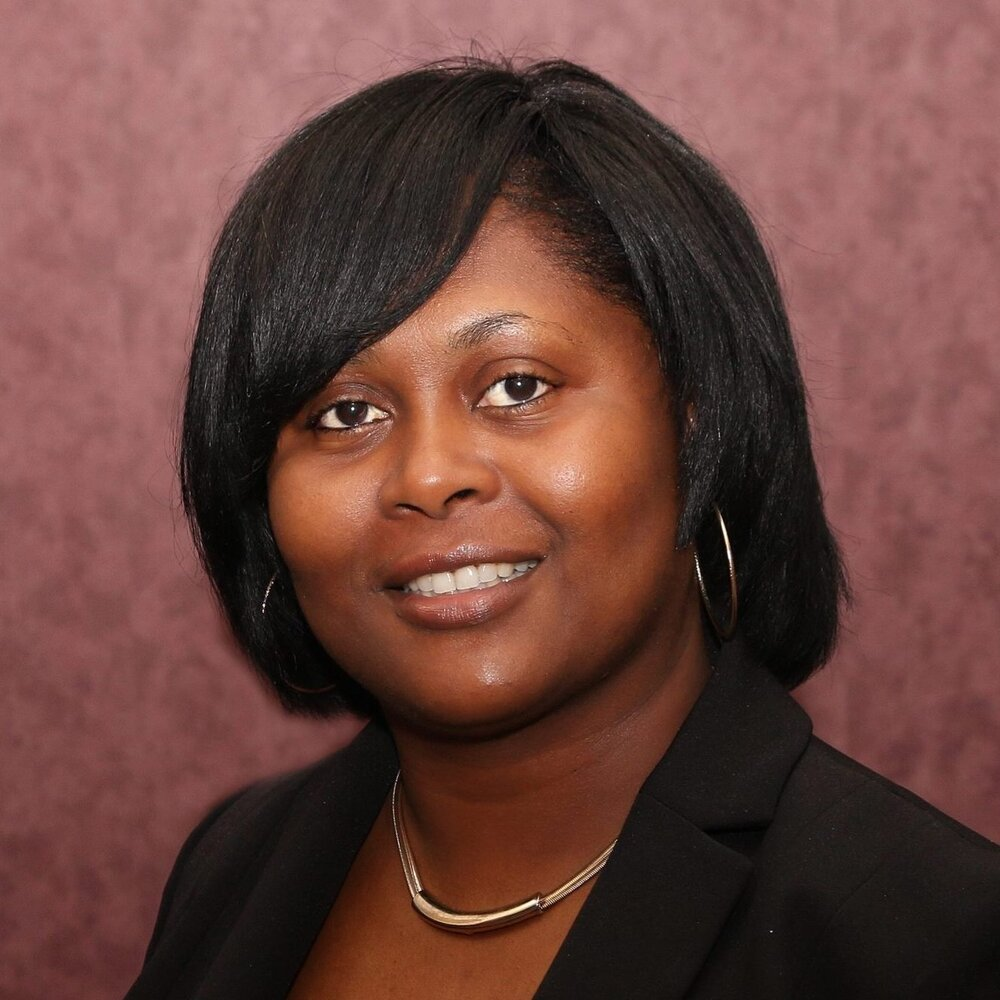bare: (262, 453, 680, 713)
